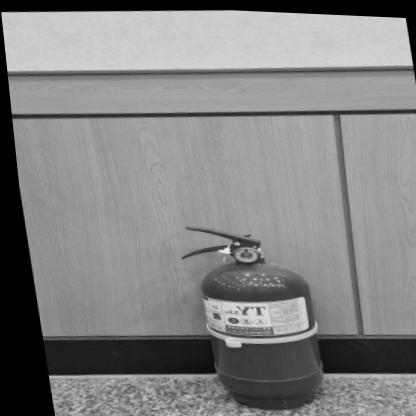FE: (168, 216, 320, 413)
